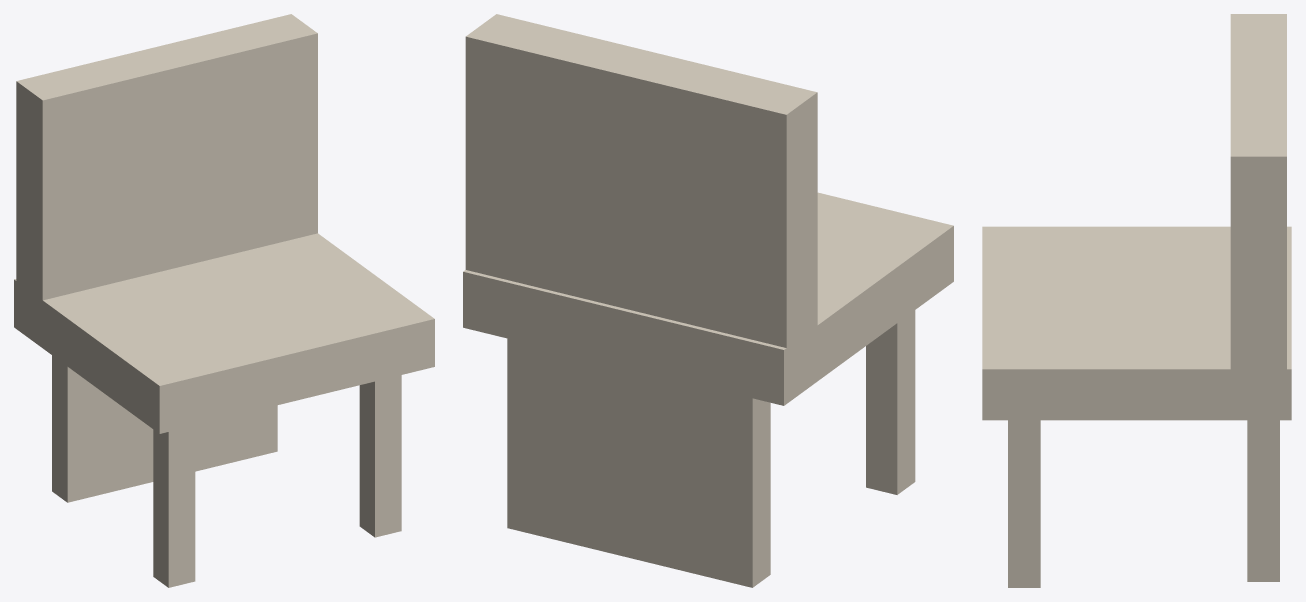
Rendered from chair.glb.
The picture shows the model from 3 angles, left to right: view 1: azimuth 30°, elevation 25°; view 2: azimuth 150°, elevation 25°; view 3: azimuth 270°, elevation 25°; orthographic projection. The views are drawn at different scales.
Parts seen in each view (by area): view 1: back, seat, rear legs, left leg, right leg; view 2: back, rear legs, seat, left leg; view 3: seat, back, right leg, rear legs.
Boxes of the visible parts, x1,y1,x2,y2 form: back: [16, 14, 317, 307]; seat: [14, 233, 434, 433]; rear legs: [52, 355, 277, 502]; left leg: [153, 425, 195, 587]; right leg: [359, 375, 401, 537]; back: [465, 14, 817, 356]; rear legs: [507, 338, 770, 587]; seat: [463, 192, 953, 405]; left leg: [866, 310, 915, 494]; seat: [982, 226, 1291, 420]; back: [1230, 14, 1286, 376]; right leg: [1008, 420, 1040, 587]; rear legs: [1247, 420, 1279, 581].
Size of the model in its own units: 0.72 by 1.04 by 0.66.
